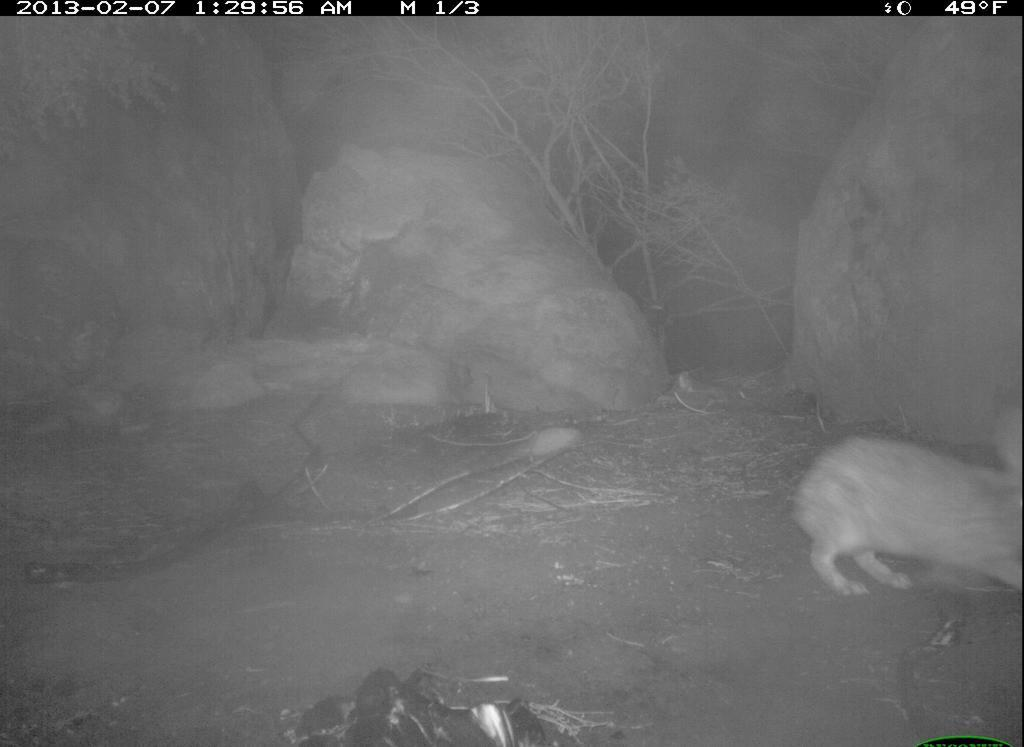rabbit: (784, 390, 1023, 610)
